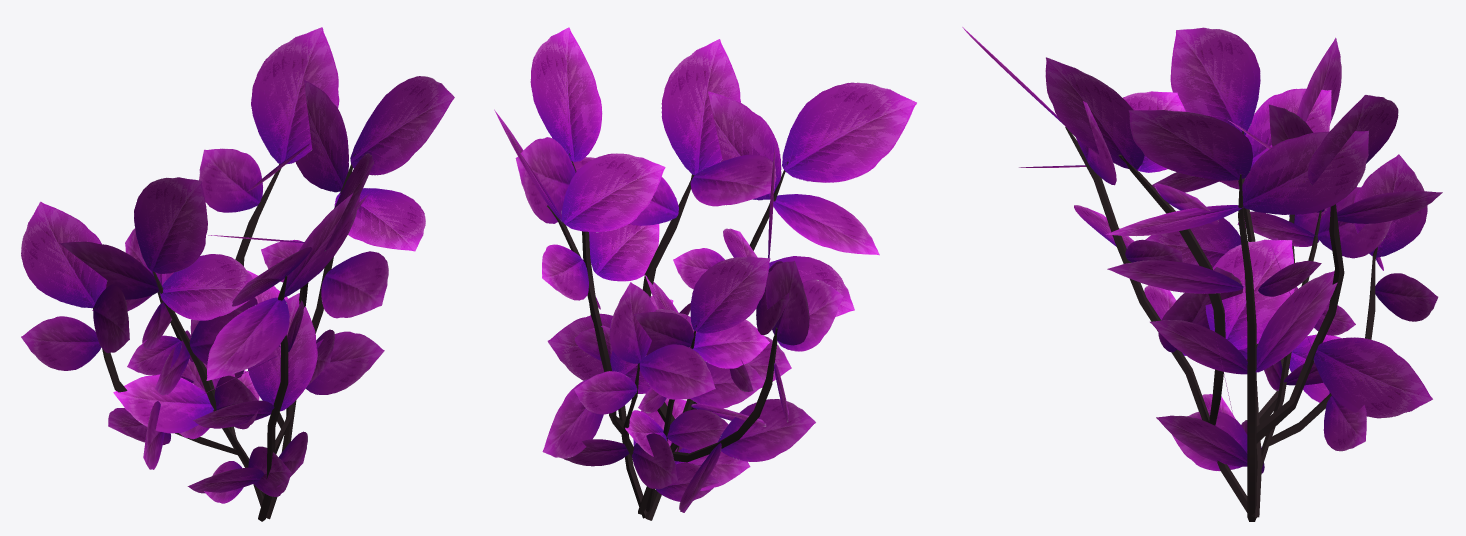
File: purplebush7.fbx
3 views of the same model, side by side, from view 1: azimuth 30°, elevation 25°; view 2: azimuth 150°, elevation 25°; view 3: azimuth 270°, elevation 25° (orthographic). The views are drawn at different scales.
Visible parts, largest first — view 1: pCylinder1062; view 2: pCylinder1062; view 3: pCylinder1062.
Part boxes in pixels (box(x1,y1,x2,y2)): pCylinder1062: box(21, 27, 454, 521); pCylinder1062: box(494, 27, 916, 520); pCylinder1062: box(962, 27, 1442, 521).
Bounding box in the file's own units: 5.26 × 6.26 × 5.71.
